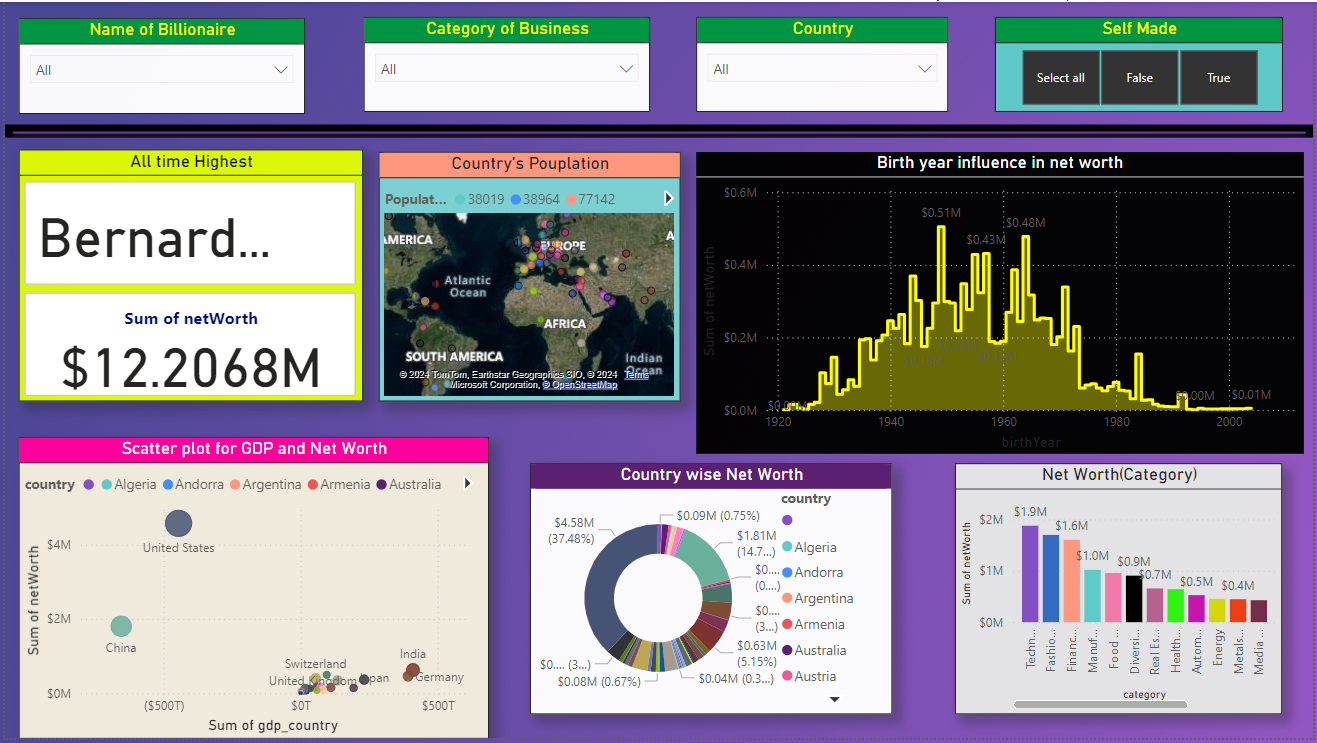

The page's visual inventory and layout, read from the dashboard file:
{"tool":"powerbi","page":{"name":"Page 1","canvas":[1280,720],"ordinal":0},"visuals":[{"type":"slicer","title":"Self Made","fields":{"Values":["Billionaires_Statistics_Dataset.selfMade"]},"box":[968.5,15.2,281.3,92.8],"z":0},{"type":"slicer","title":"Name of Billionaire","fields":{"Values":["Billionaires_Statistics_Dataset.personName"]},"box":[13.9,15.3,279.7,93.2],"z":1000},{"type":"slicer","title":"Country","fields":{"Values":["Billionaires_Statistics_Dataset.country"]},"box":[676.2,15.2,246.6,92.8],"z":2000},{"type":"slicer","title":"Category of Business","fields":{"Values":["Billionaires_Statistics_Dataset.category"]},"box":[350.6,15.2,279.9,92.8],"z":3000},{"type":"shape","box":[0,119.7,1280.3,12.5],"z":4000},{"type":"map","title":"Country''s Pouplation","fields":{"Category":["Billionaires_Statistics_Dataset.country"],"Series":["Billionaires_Statistics_Dataset.population_country"]},"box":[365.8,146.9,295.1,243.9],"z":5000},{"type":"donutChart","title":"Country wise Net Worth","fields":{"Y":["Billionaires_Statistics_Dataset.netWorth"],"Series":["Billionaires_Statistics_Dataset.country"]},"box":[514.1,451.7,354.7,245.2],"z":6000},{"type":"columnChart","title":"Net Worth(Category)","fields":{"Category":["Billionaires_Statistics_Dataset.category"],"Y":["Billionaires_Statistics_Dataset.netWorth"]},"box":[929.7,451.7,320.1,245.2],"z":7000},{"type":"cardVisual","title":"All time Highest","fields":{"Data":["Billionaires_Statistics_Dataset.PersonWithHighestNetWorth","Billionaires_Statistics_Dataset.netWorth"]},"box":[13.9,144.1,336.7,246.6],"z":8000},{"type":"scatterChart","title":"Scatter plot for GDP and Net Worth","fields":{"X":["Billionaires_Statistics_Dataset.gdp_country"],"Y":["Billionaires_Statistics_Dataset.netWorth"],"Series":["Billionaires_Statistics_Dataset.country"],"Size":["Billionaires_Statistics_Dataset.age"]},"box":[13.9,425.4,460,295.1],"z":9000},{"type":"lineChart","title":"Birth year influence in net worth","fields":{"Category":["Billionaires_Statistics_Dataset.birthYear"],"Y":["Billionaires_Statistics_Dataset.netWorth"]},"box":[676.2,146.9,594.4,295.1],"z":10000}]}

Visuals, with their boxes in screenshot pixels (x1, y1, x2, y2), scaled from the page's 1280x720 canvas onto the 1317x743 screenshot:
"Self Made" slicer: (996, 16, 1286, 111)
"Name of Billionaire" slicer: (14, 16, 302, 112)
"Country" slicer: (696, 16, 949, 111)
"Category of Business" slicer: (361, 16, 649, 111)
shape: (0, 124, 1316, 136)
"Country''s Pouplation" map: (376, 152, 680, 403)
"Country wise Net Worth" donutChart: (529, 466, 894, 719)
"Net Worth(Category)" columnChart: (957, 466, 1286, 719)
"All time Highest" cardVisual: (14, 149, 361, 403)
"Scatter plot for GDP and Net Worth" scatterChart: (14, 439, 488, 742)
"Birth year influence in net worth" lineChart: (696, 152, 1307, 456)
